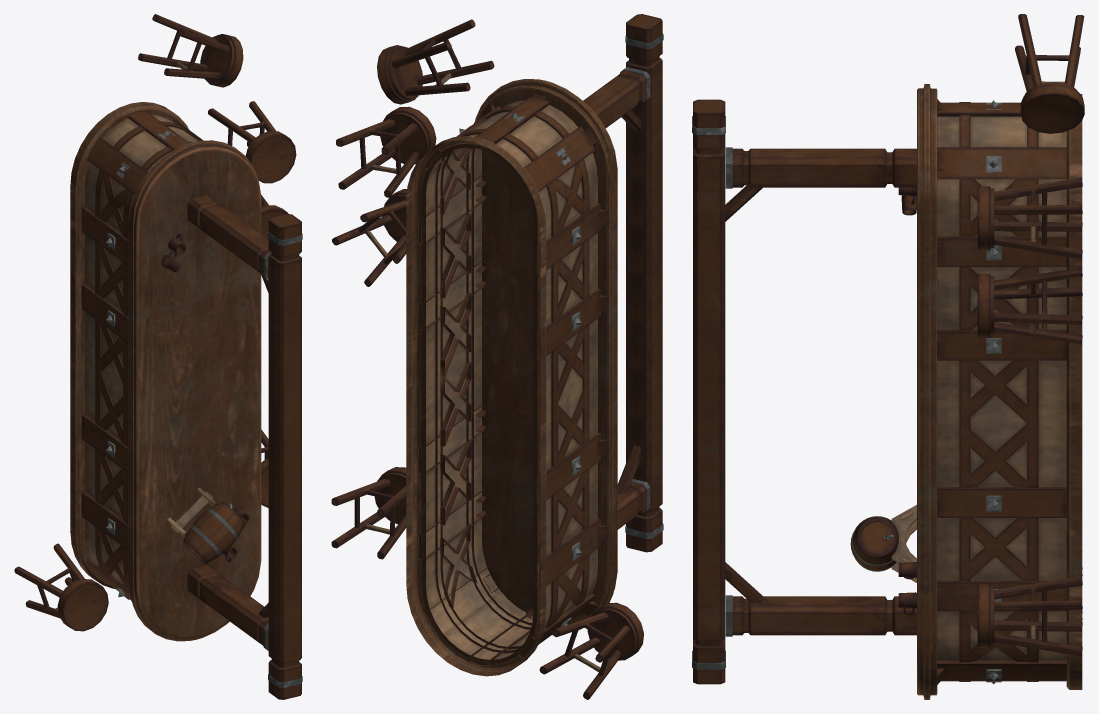
File: beer-bar-e4d0a8.glb
3 views of the same model, side by side, from view 1: azimuth 30°, elevation 25°; view 2: azimuth 150°, elevation 25°; view 3: azimuth 270°, elevation 25° (orthographic). The views are drawn at different scales.
Visible parts, largest first — view 1: PropMesh; view 2: PropMesh; view 3: PropMesh.
Boxes of the visible parts, x1,y1,x2,y2 form: PropMesh: (14,14,302,699); PropMesh: (331,14,663,699); PropMesh: (692,14,1084,699).
Size of the model in its own units: 0.9826 by 2.2 by 1.13.
1 material, 1 textured.
